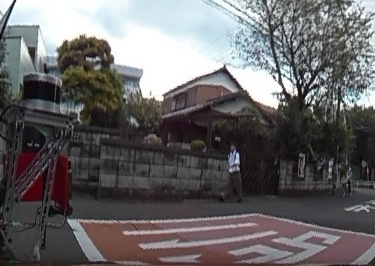person: (220, 140, 243, 203), (338, 159, 351, 190)
